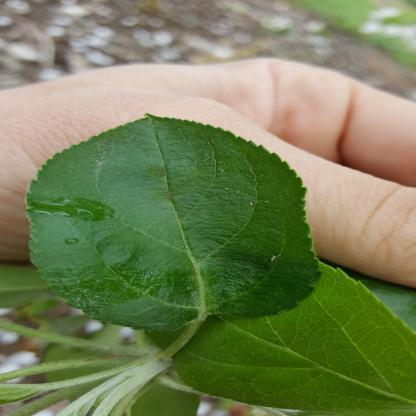Apple leaf: (20, 110, 336, 338)
